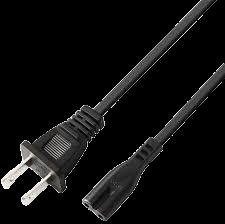cable: (1, 0, 216, 206), (83, 64, 225, 222)
